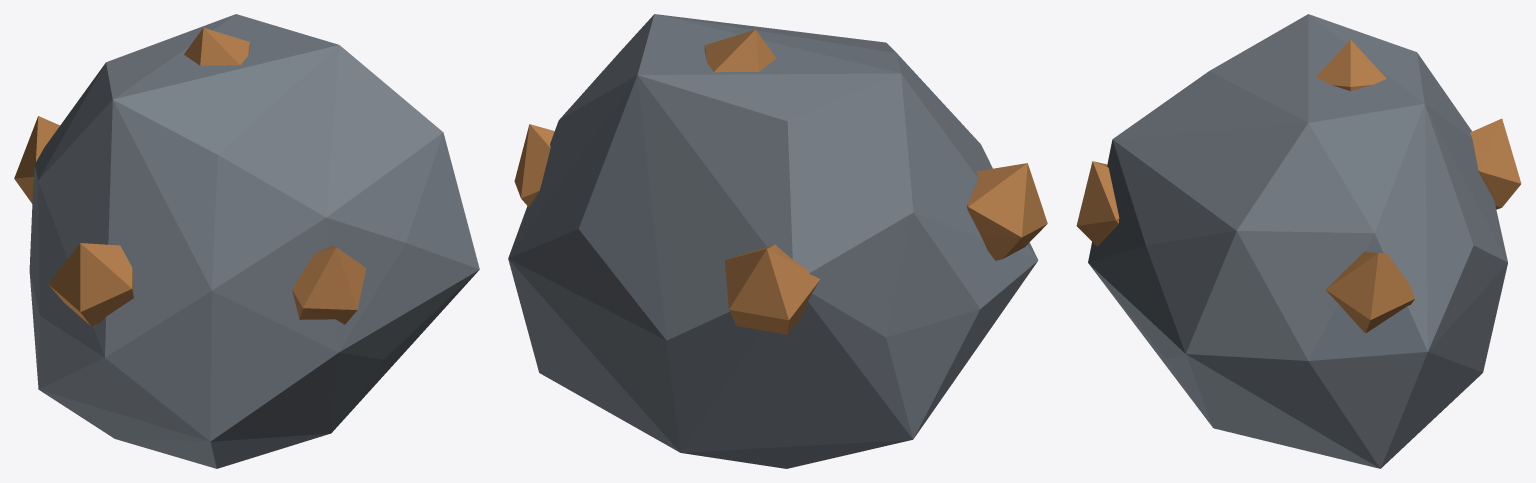
File: rock_ore_bronze.glb
3 views of the same model, side by side, from view 1: azimuth 30°, elevation 25°; view 2: azimuth 150°, elevation 25°; view 3: azimuth 270°, elevation 25° (orthographic). The views are drawn at different scales.
Parts seen in each view (by area): view 1: rock, body; view 2: rock, body; view 3: rock, body.
Part boxes in pixels (box(x1,y1,x2,y2)): rock: box(29, 14, 479, 468); body: box(14, 27, 366, 326); rock: box(508, 14, 1038, 468); body: box(514, 29, 1047, 334); rock: box(1088, 14, 1507, 468); body: box(1076, 39, 1521, 332).
Bounding box in the file's own units: 1.32 × 1.13 × 1.27.
